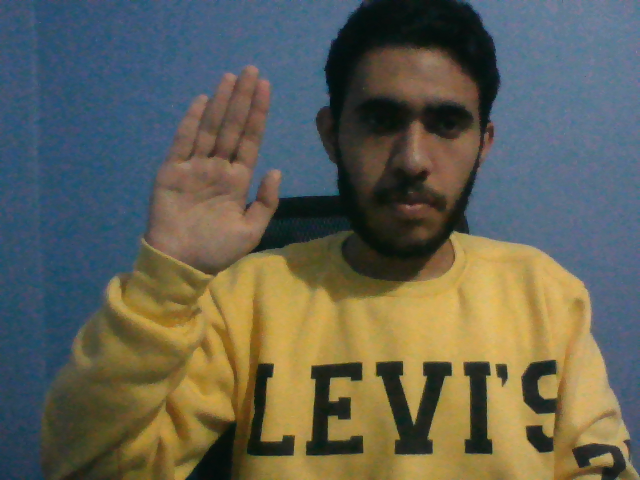hello: (138, 58, 287, 282)
